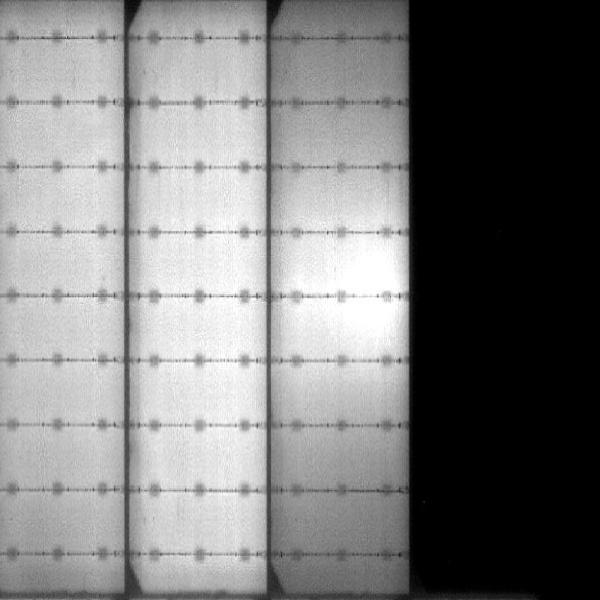hot_spot: (343, 250, 394, 290), (342, 300, 394, 329)
no_electricity: (408, 3, 596, 590)
